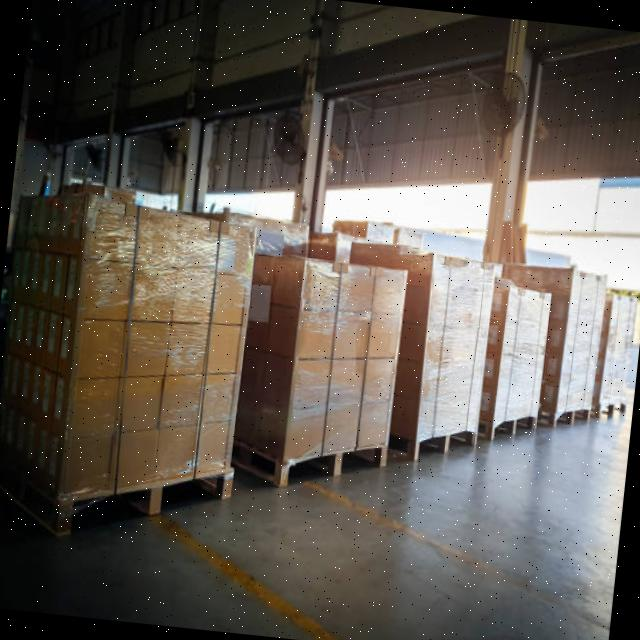Wooden-Pallets: (49, 457, 249, 542), (241, 438, 393, 496)
